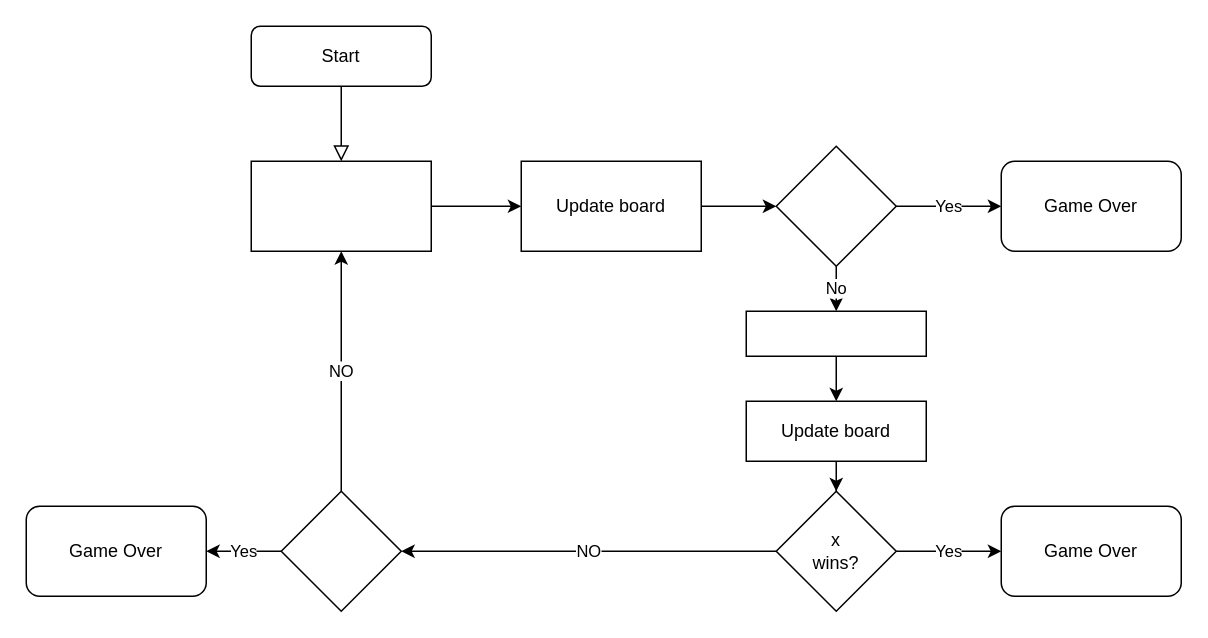
This 1208x638 diagram has some shape labels left out. Each missing label, with the centre of its shape:
Draw?: point 340,550
Get O move: point 340,205
Get X: point 835,333
O wins?: point 835,205
